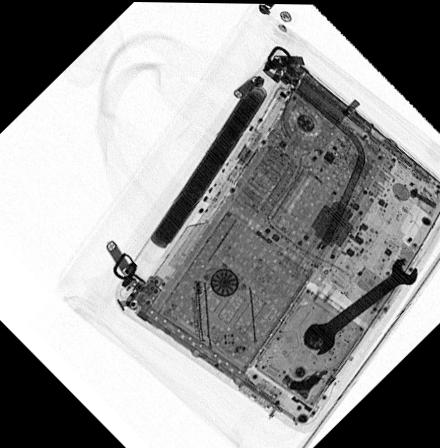Wrench: (300, 255, 418, 355)
